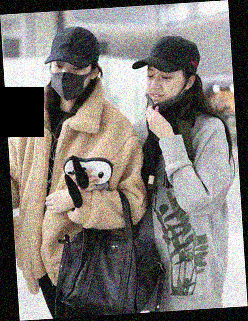mask_weared_incorrect: (146, 63, 189, 107)
with_mask: (50, 61, 93, 100)
